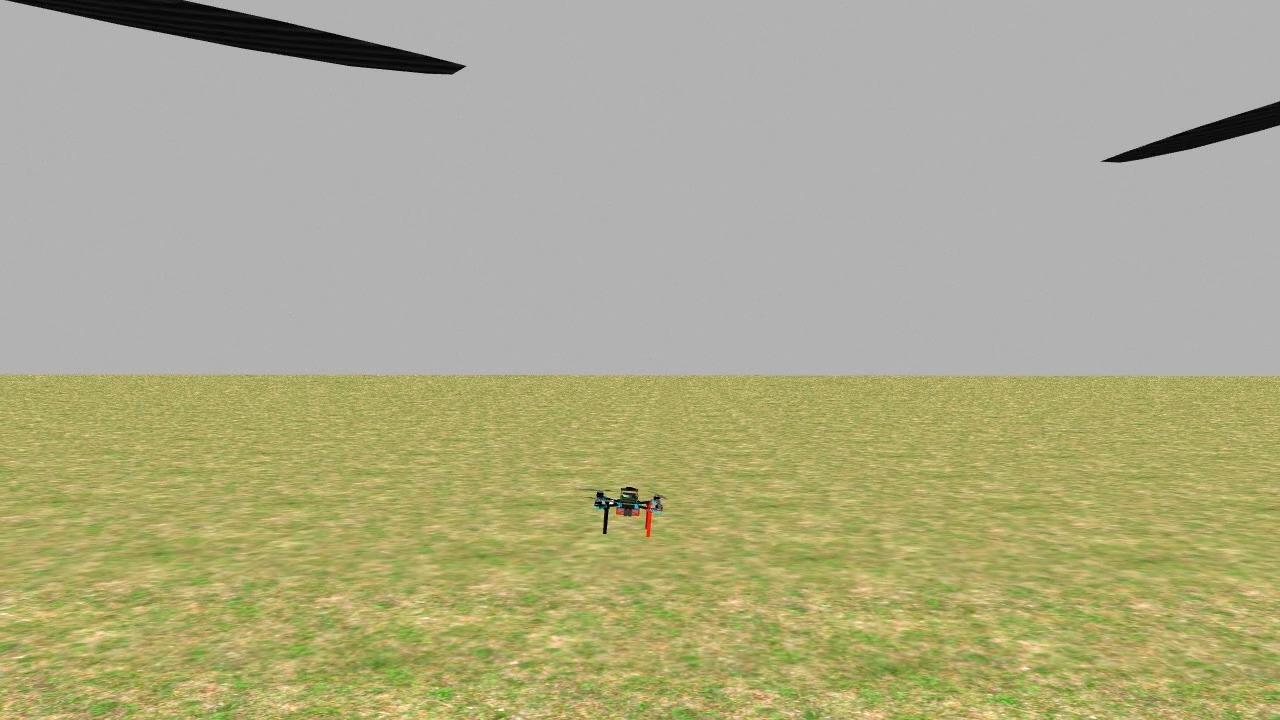UAV: (579, 474, 680, 549)
